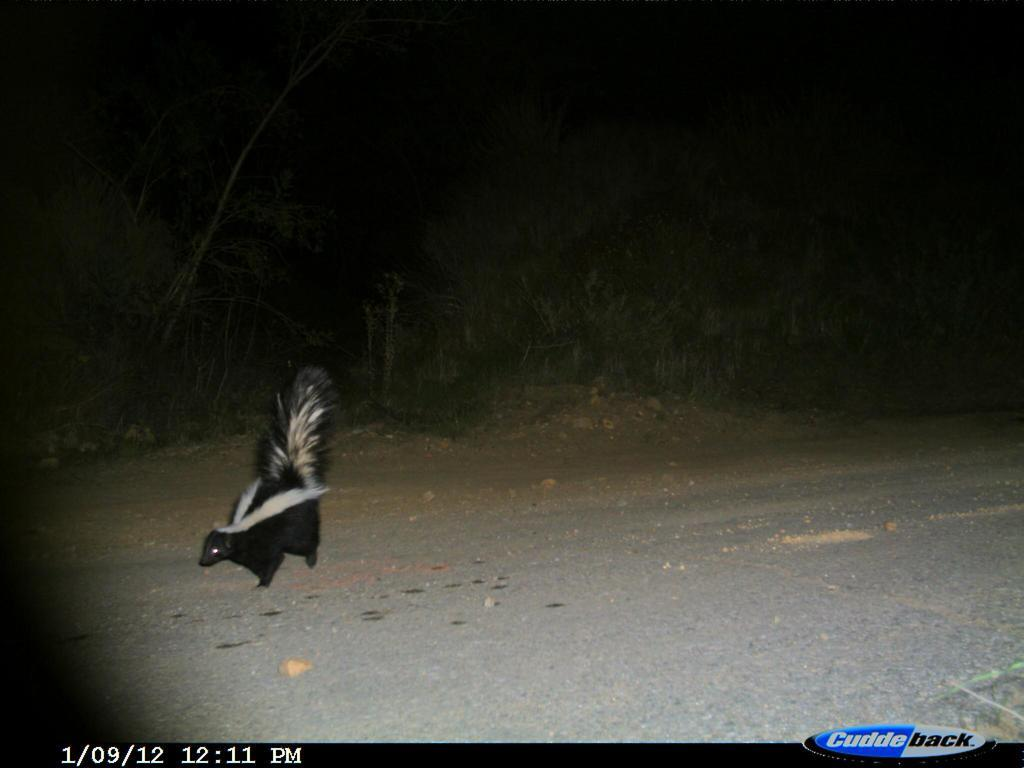skunk: (193, 353, 358, 600)
